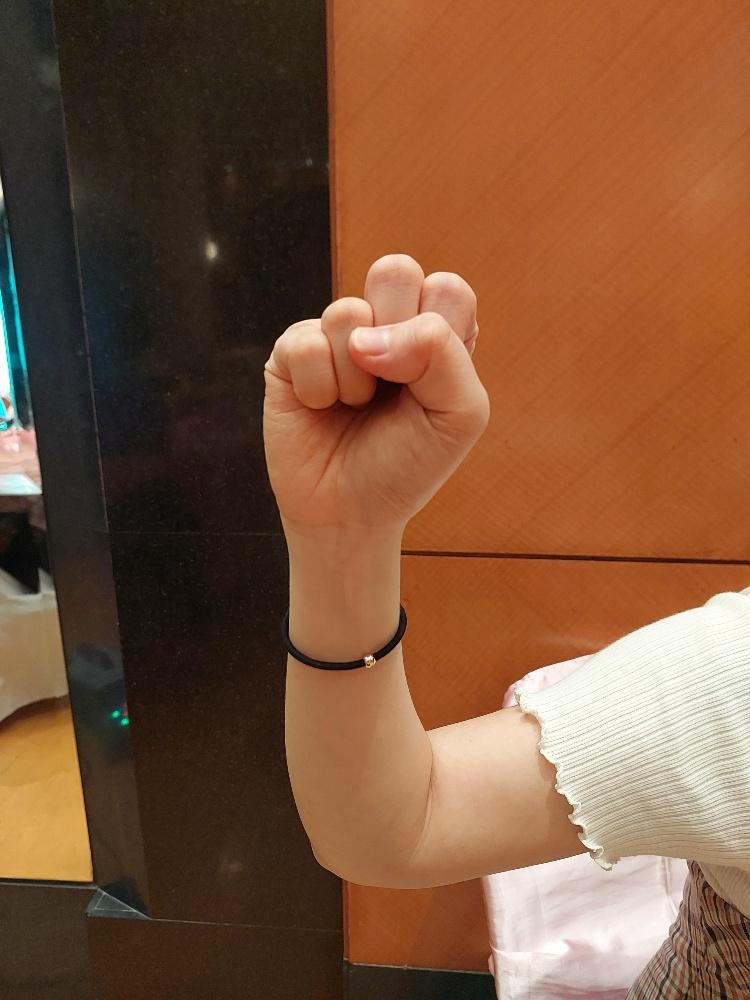s: (256, 246, 494, 533)
